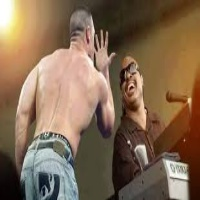ring: (94, 34, 102, 53)
